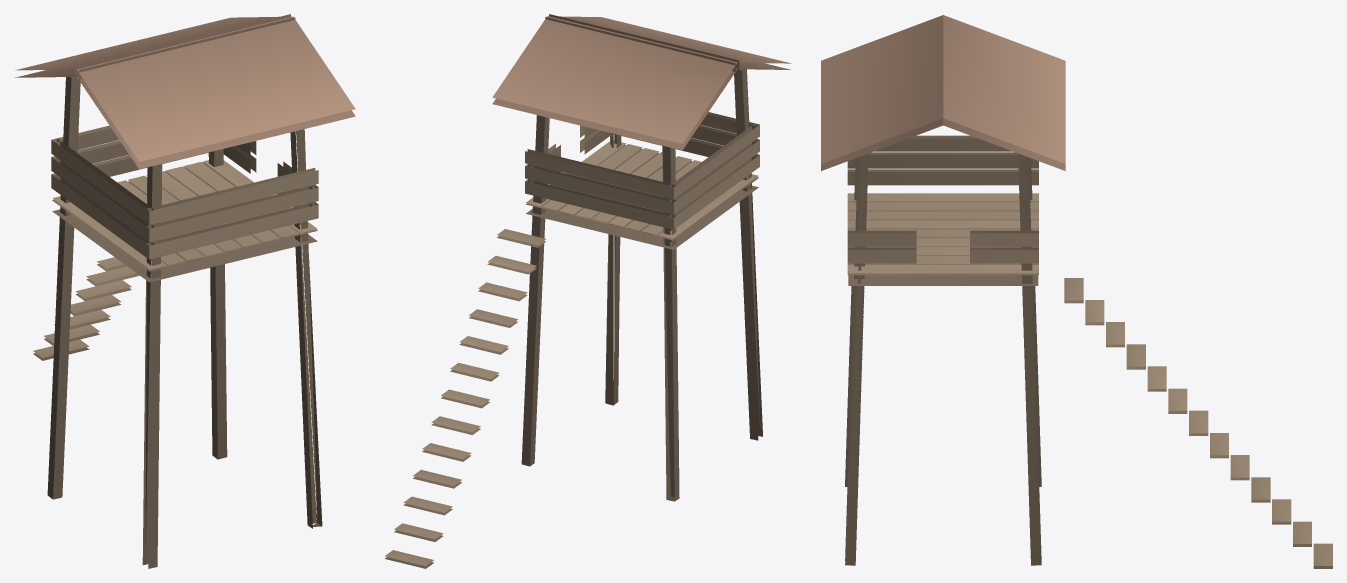
The model's file is mil_watchtower.lod.glb.
3 views of the same model, side by side, from view 1: azimuth 30°, elevation 25°; view 2: azimuth 150°, elevation 25°; view 3: azimuth 270°, elevation 25° (orthographic). The views are drawn at different scales.
Visible parts, largest first — view 1: mil_watchtower; view 2: mil_watchtower; view 3: mil_watchtower.
Part boxes in pixels (box(x1,y1,x2,y2)): mil_watchtower: box(14, 14, 355, 568); mil_watchtower: box(385, 14, 791, 568); mil_watchtower: box(821, 15, 1332, 568).
Bounding box in the file's own units: 4.6 × 9.53 × 9.63.
